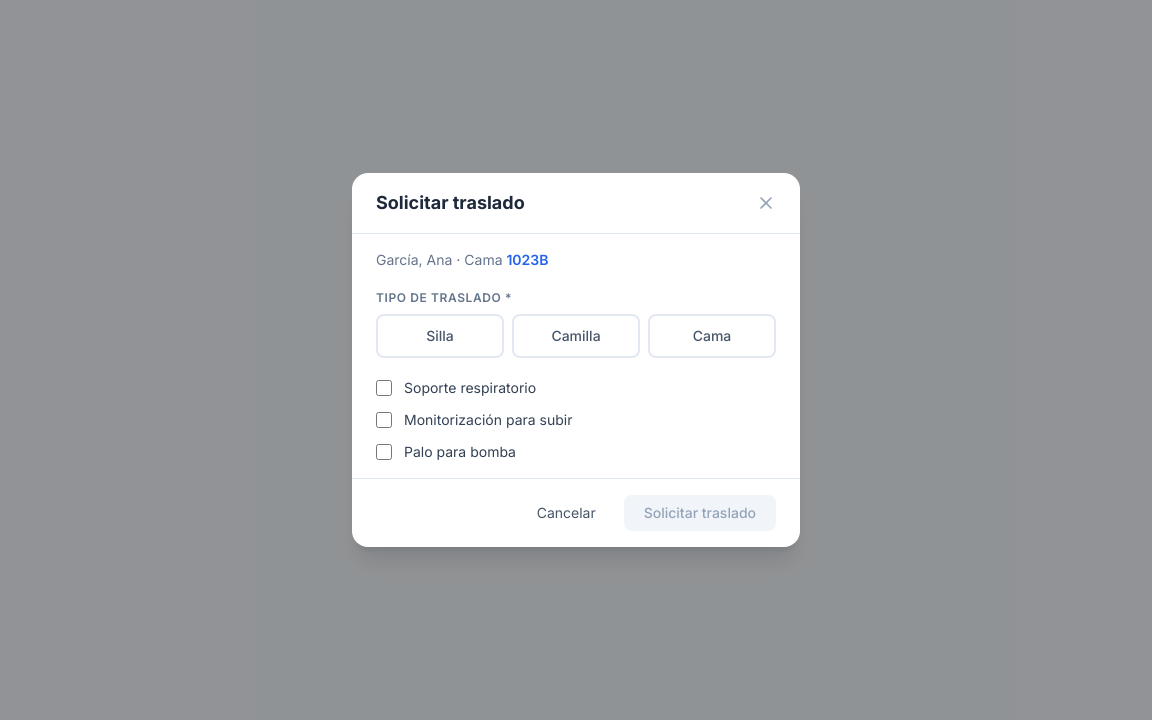
Scenario: TransferModal › confirm button is disabled until transport type is selected
Expected: the button with test id "confirm-transfer" is disabled, 624,495 -> 776,531
Click the button with test id "transport-silla" at (440, 336), box 376,314 -> 504,358
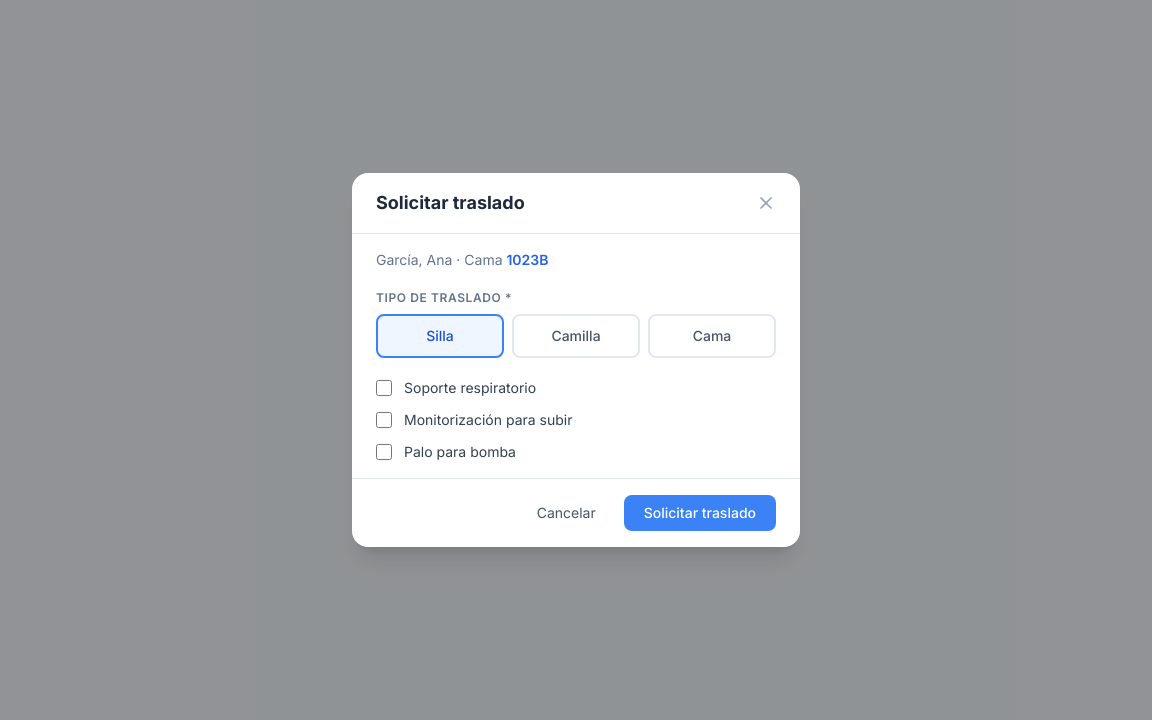
Expected: the button with test id "confirm-transfer" is enabled, 624,495 -> 776,531
